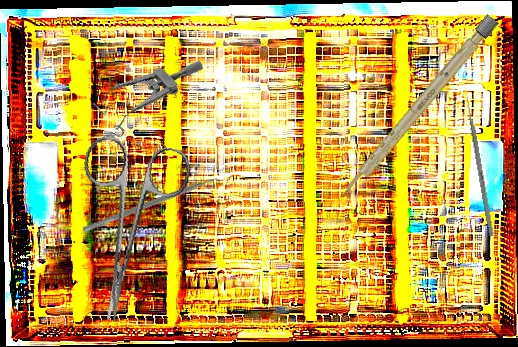Iris Scissors: (54, 132, 195, 331)
Pusher: (462, 86, 495, 237)
Scalpel Handle: (340, 13, 499, 200)
Spatula Surgical: (82, 171, 225, 239)
Speculum: (83, 29, 206, 150)
